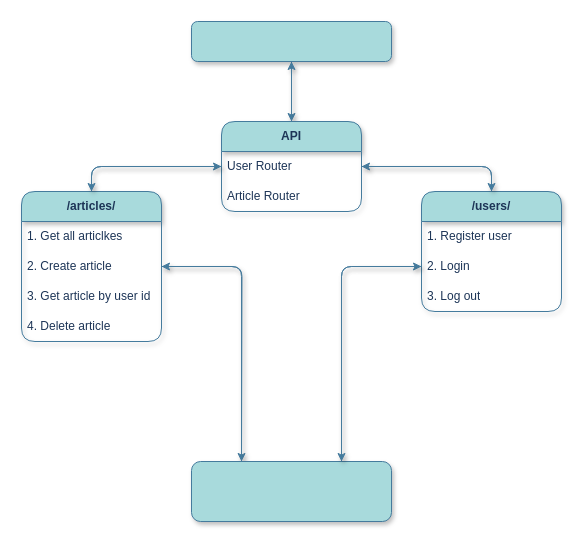
Image size: 585x546. Some labels were removed from this diagram. The shapes that lost their labels are listed below. From the top down, each one's centre as x and y in pixels, then its label:
point (292, 42): CLIENT
point (292, 492): DATABASE
